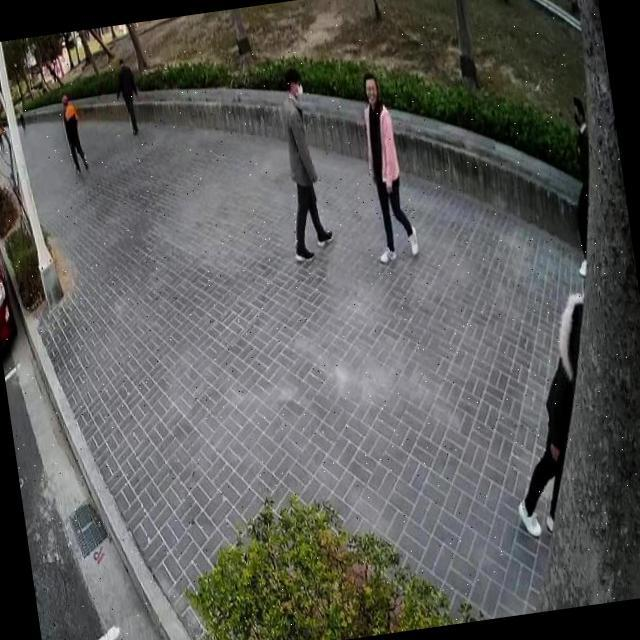person: (484, 274, 626, 547), (350, 63, 423, 272), (268, 62, 340, 263), (552, 90, 611, 280), (58, 86, 94, 180), (110, 52, 148, 140), (13, 95, 28, 130)
